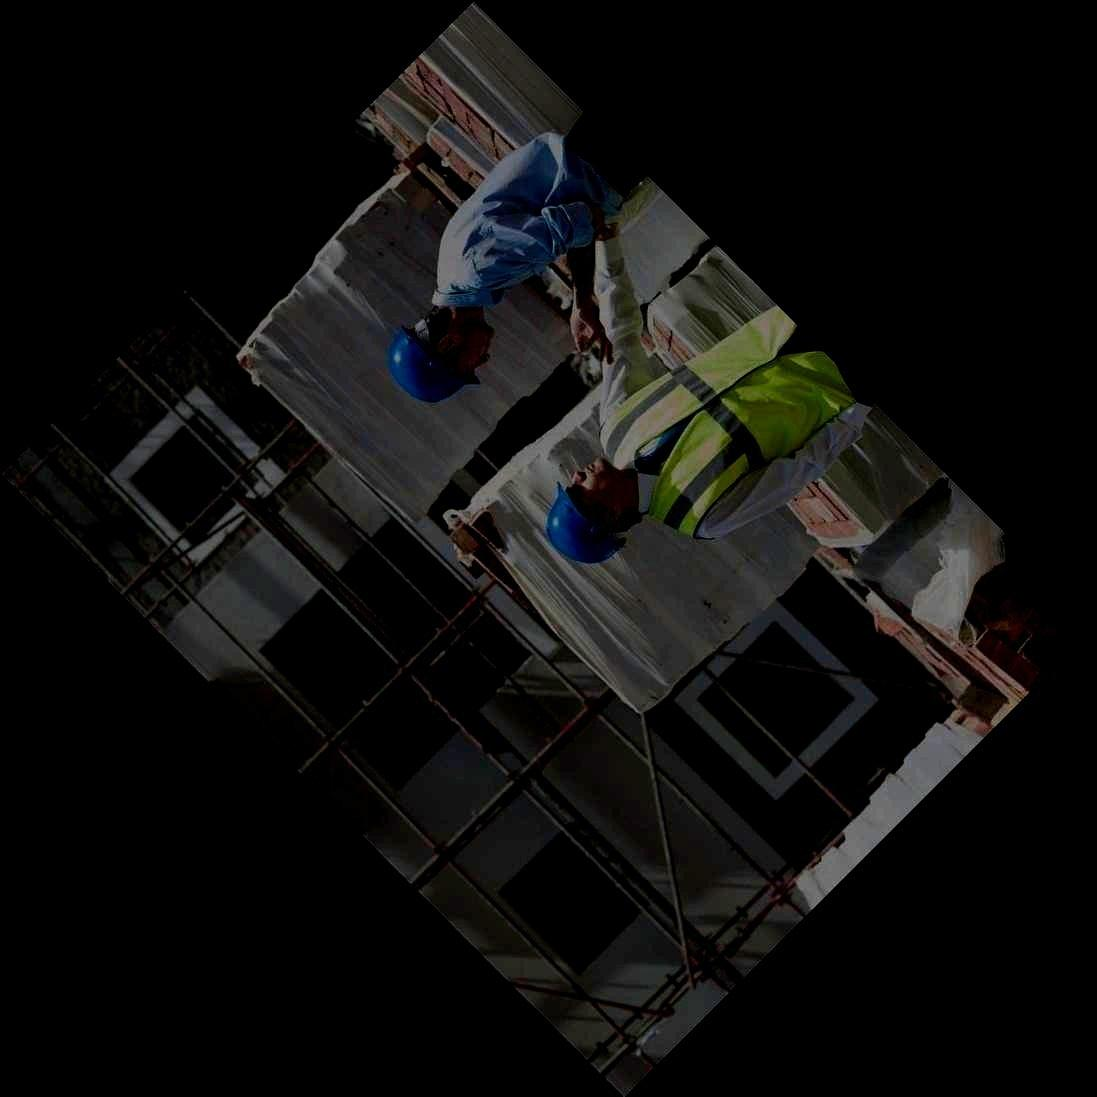helmet: (386, 305, 495, 405), (545, 457, 642, 566)
